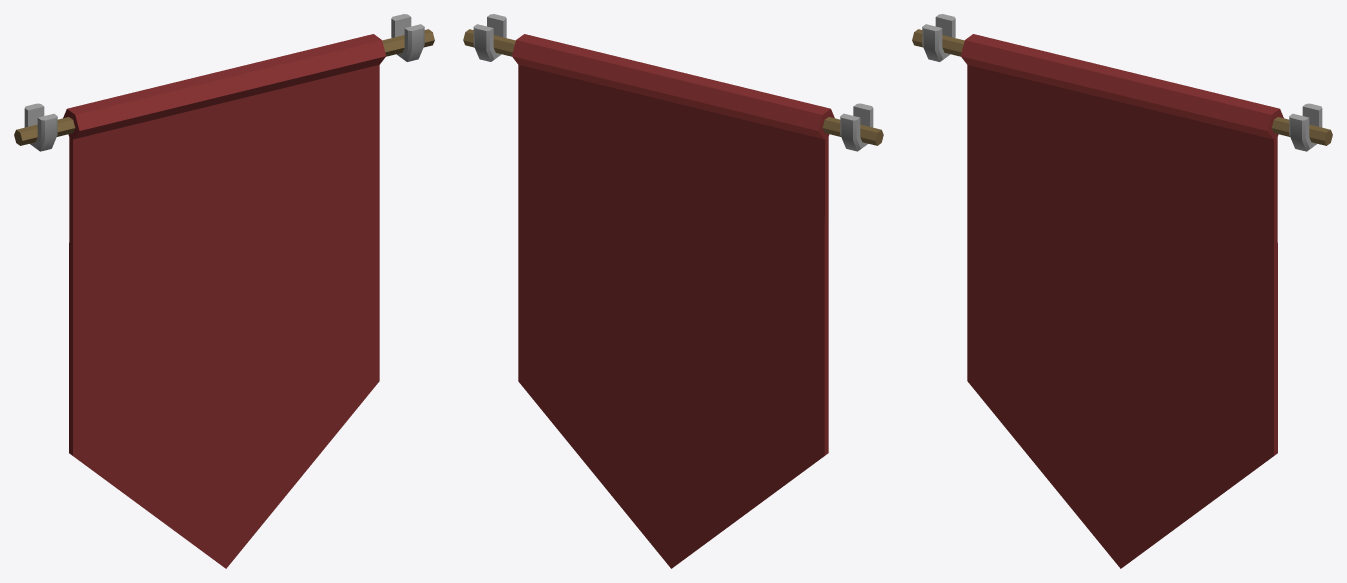
Rendered from CeilingMountedTapestry_FBX.fbx.
The picture shows the model from 3 angles, left to right: view 1: azimuth 30°, elevation 25°; view 2: azimuth 150°, elevation 25°; view 3: azimuth 330°, elevation 25°; orthographic projection.
Visible parts, largest first — view 1: pCylinder11; view 2: pCylinder11; view 3: pCylinder11.
Part boxes in pixels (bbox=[...]): pCylinder11: bbox=[14, 14, 434, 568]; pCylinder11: bbox=[463, 14, 883, 568]; pCylinder11: bbox=[912, 14, 1332, 568].
Size of the model in its own units: 85.17 by 98.74 by 6.97.
